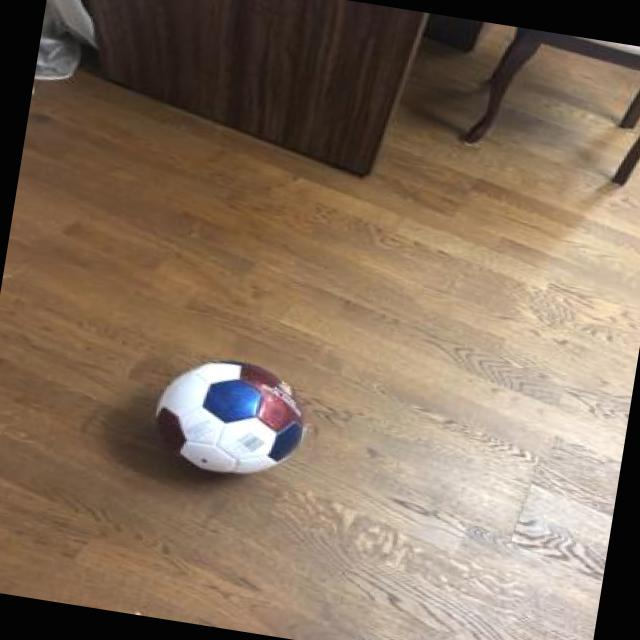Soccer Ball: (144, 346, 321, 488)
